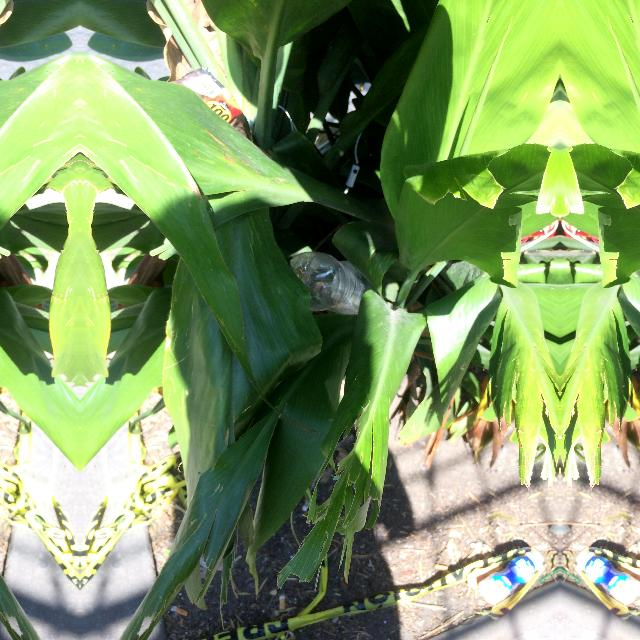Metal: (167, 62, 257, 148)
Plastic: (279, 238, 371, 318), (466, 545, 552, 605), (567, 545, 640, 605)
